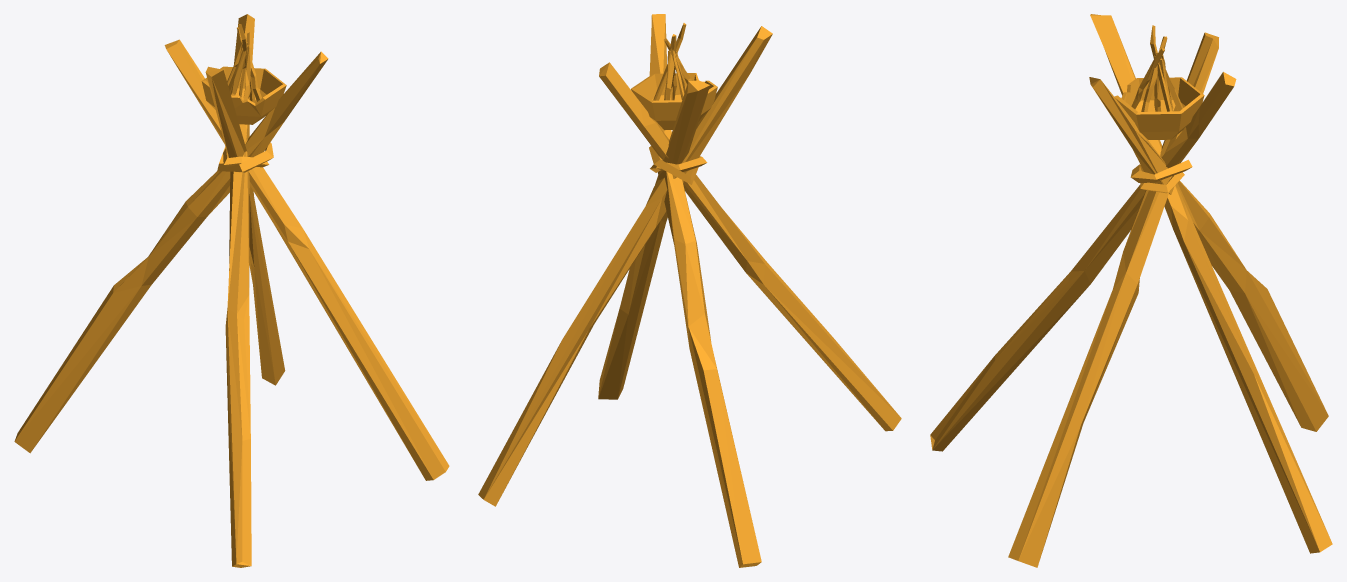
Rendered from SM_Lamp_Stick_Fantasy.fbx.
3 views of the same model, side by side, from view 1: azimuth 30°, elevation 25°; view 2: azimuth 150°, elevation 25°; view 3: azimuth 270°, elevation 25° (orthographic). The views are drawn at different scales.
Visible parts, largest first — view 1: lamp-stick-fantasy; view 2: lamp-stick-fantasy; view 3: lamp-stick-fantasy.
Boxes of the visible parts, <box> form: lamp-stick-fantasy: <box>14,14,449,567</box>; lamp-stick-fantasy: <box>478,14,901,567</box>; lamp-stick-fantasy: <box>930,14,1332,567</box>.
Size of the model in its own units: 0.8677 by 1.25 by 0.9559.
